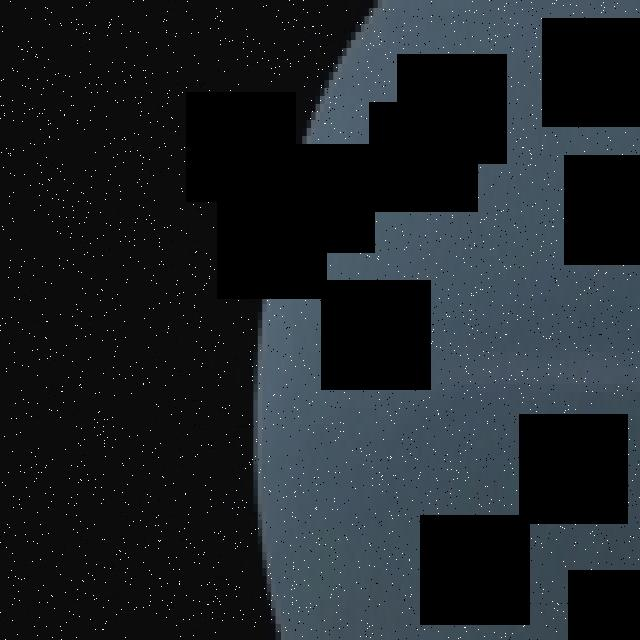Uranus: (253, 0, 640, 640)
